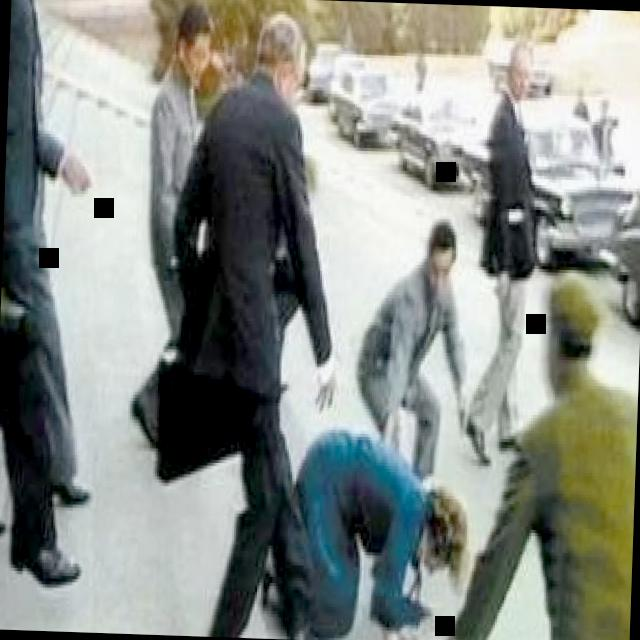Fall-Detected: (259, 392, 479, 640)
